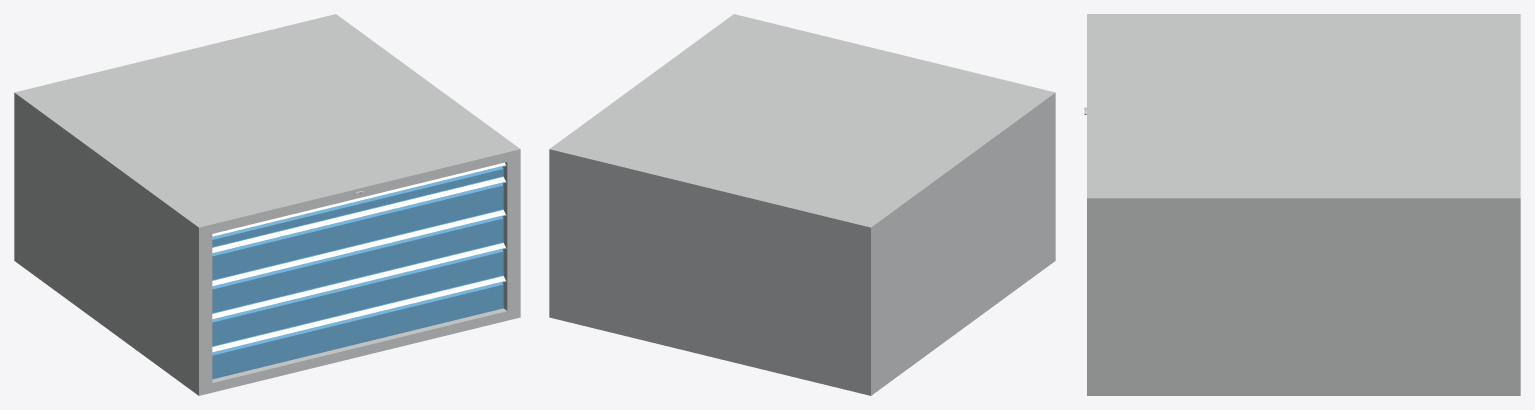
3 views of the same model, side by side, from view 1: azimuth 30°, elevation 25°; view 2: azimuth 150°, elevation 25°; view 3: azimuth 270°, elevation 25° (orthographic). The views are drawn at different scales.
Visible parts, largest first — view 1: mesh_2; view 2: mesh_2; view 3: mesh_2.
Boxes of the visible parts, x1,y1,x2,y2 form: mesh_2: [14, 14, 520, 395]; mesh_2: [549, 14, 1055, 395]; mesh_2: [1084, 14, 1520, 395].
Size of the model in its own units: 200 by 100 by 200.
